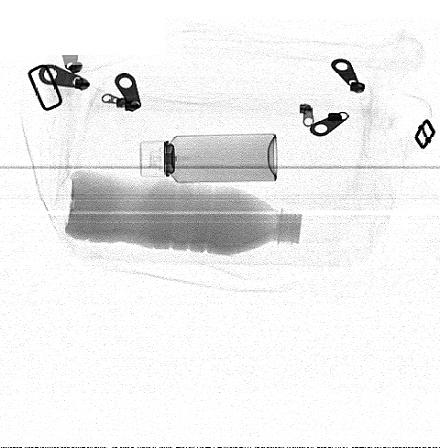Sprayer: (140, 133, 278, 183)
